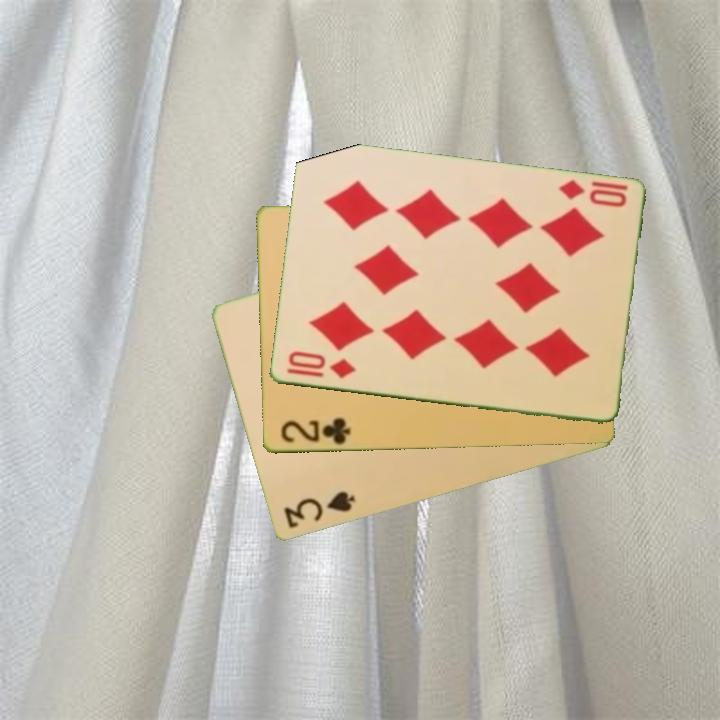10d: (554, 176, 629, 211), (283, 348, 358, 382)
2c: (277, 414, 353, 448)
3s: (280, 488, 358, 532)
